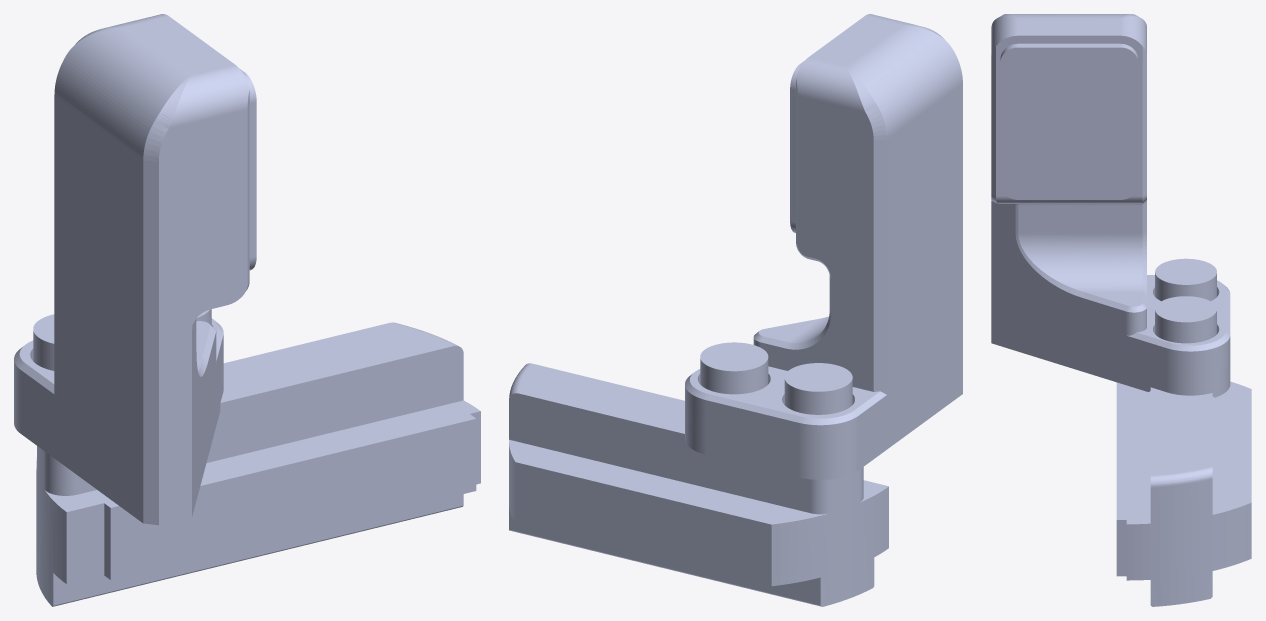
File: g_right.dae
The picture shows the model from 3 angles, left to right: view 1: azimuth 30°, elevation 25°; view 2: azimuth 150°, elevation 25°; view 3: azimuth 270°, elevation 25°; orthographic projection. The views are drawn at different scales.
Parts seen in each view (by area): view 1: node0; view 2: node0; view 3: node0.
Boxes of the visible parts, x1,y1,x2,y2 form: node0: (14, 14, 480, 606); node0: (509, 14, 962, 606); node0: (991, 14, 1251, 606).
Bounding box in the file's own units: 0.0425 × 0.0294 × 0.0564.
